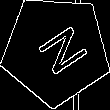N_SW: (25, 19, 87, 81)
